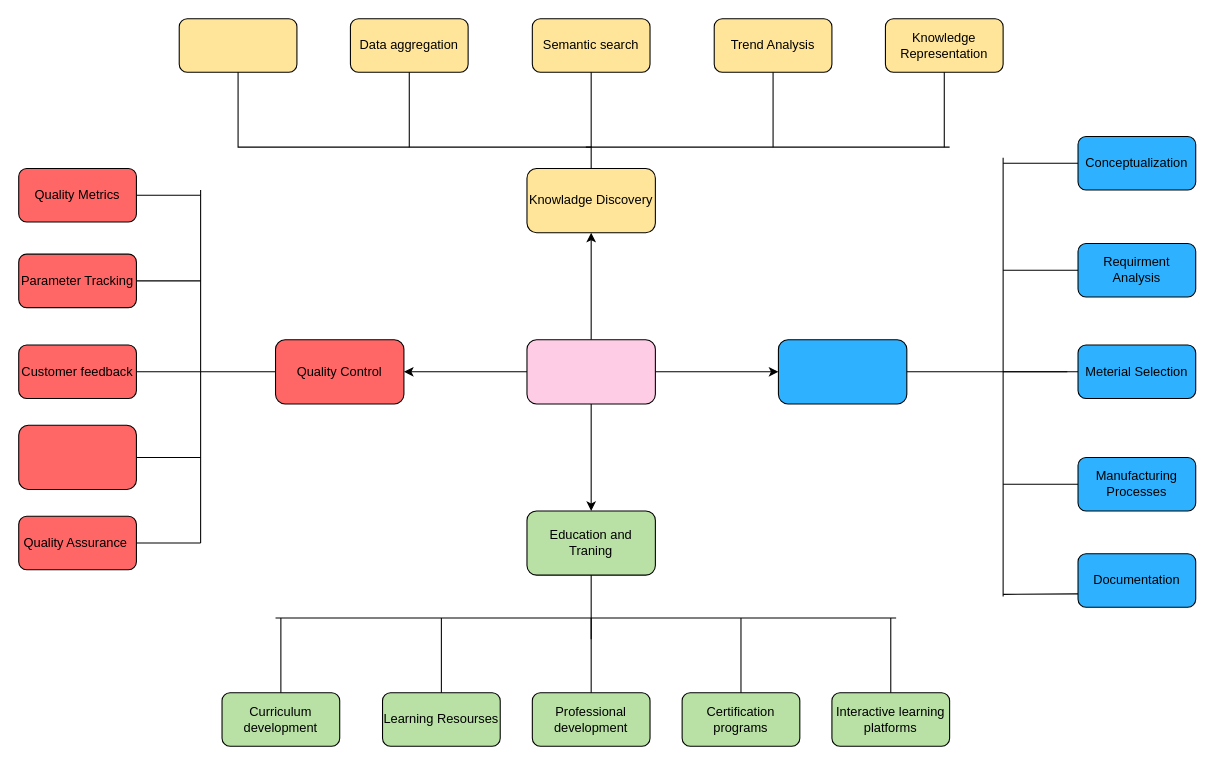
The diagram is 1214 pixels wide and 765 high, and some of its shapes have lost their labels. Each missing label, with the centre of its shape:
"Data integration" belongs at [237,45].
"Engineering Design" belongs at [842,371].
"Mechanical Engineering" belongs at [590,371].
"Satisfaction Monitoring" belongs at [77,457].
